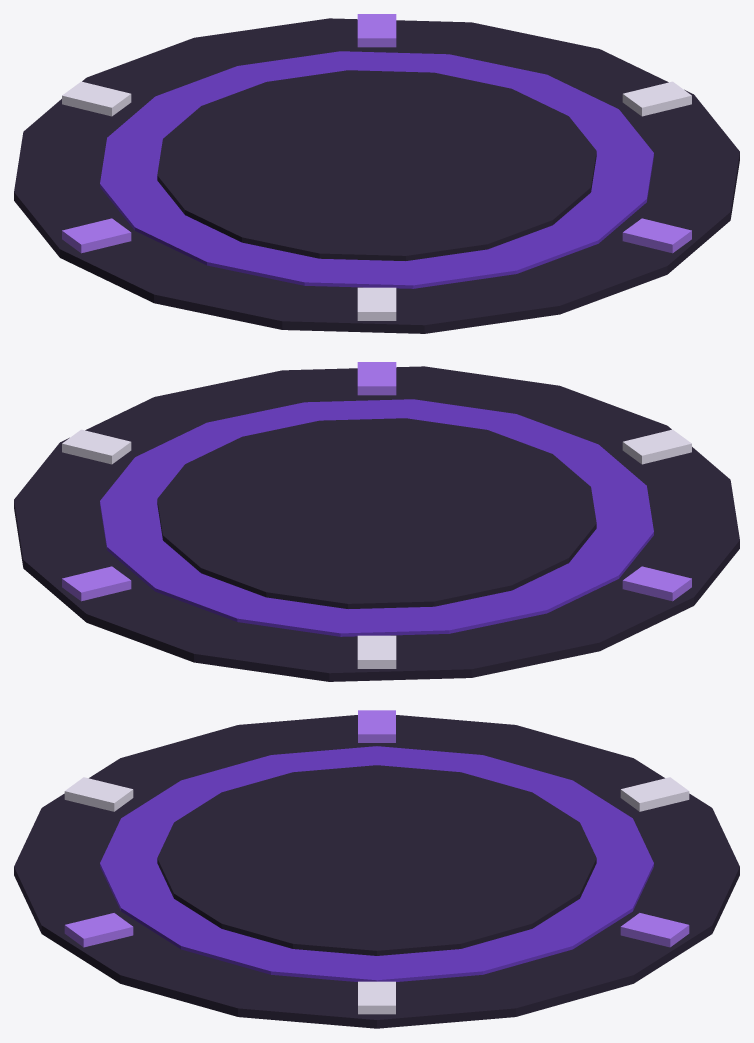
The model's file is env_r16_void_rune_circle.glb.
3 renders of one model, top to bottom at view 1: azimuth 30°, elevation 25°; view 2: azimuth 150°, elevation 25°; view 3: azimuth 270°, elevation 25°, orthographic.
Parts seen in each view (by area): view 1: env_r16_void_rune_circle; view 2: env_r16_void_rune_circle; view 3: env_r16_void_rune_circle.
Boxes of the visible parts, x1,y1,x2,y2 form: env_r16_void_rune_circle: [14, 14, 739, 333]; env_r16_void_rune_circle: [14, 362, 739, 681]; env_r16_void_rune_circle: [14, 710, 739, 1028].
Size of the model in its own units: 3.8 by 0.1 by 3.8.
1 material, 1 textured.
